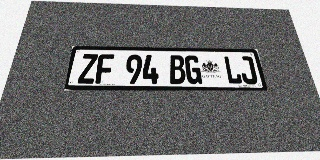4: (142, 55, 159, 84)
9: (125, 54, 142, 84)
B: (169, 55, 186, 84)
F: (95, 54, 114, 84)
G: (184, 55, 202, 84)
J: (238, 56, 258, 84)
L: (223, 56, 243, 84)
Z: (77, 54, 98, 84)
